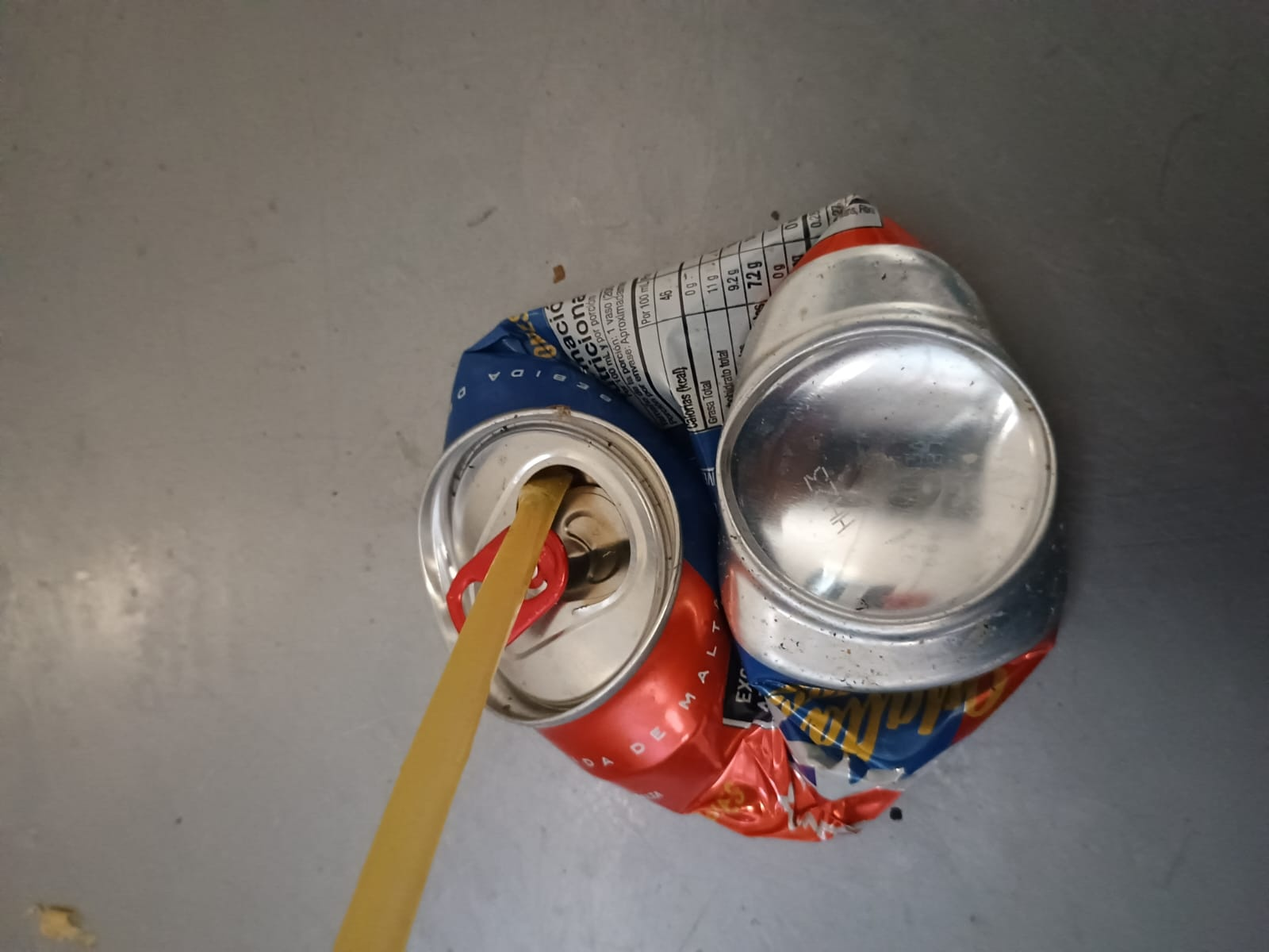Metal: (421, 195, 1073, 838)
